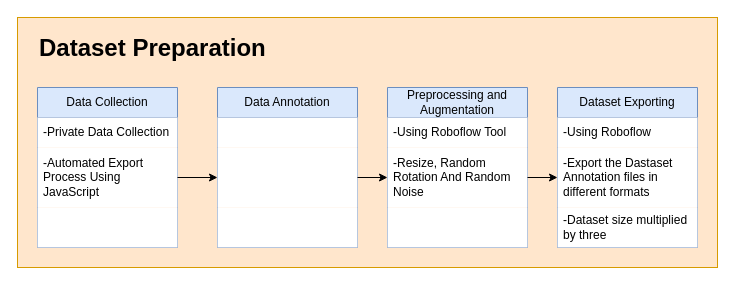
The diagram is 735 pixels wide and 285 high, and some of its shapes have lost their labels. Each missing label, with the centre of its shape:
"-Automated Annotation Using File Name And Predefined Positions With Python" belongs at (287,177).
"-Automatic Annotation Adjustment" belongs at (457,227).
"-Bounding Boxes" belongs at (287,132).
"-File Name Convention" belongs at (107,227).
"-Text File Generation" belongs at (287,227).
